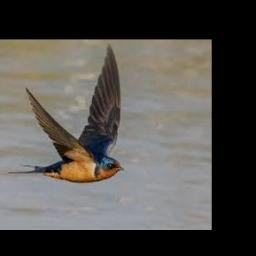Swallow: (8, 44, 125, 182)
